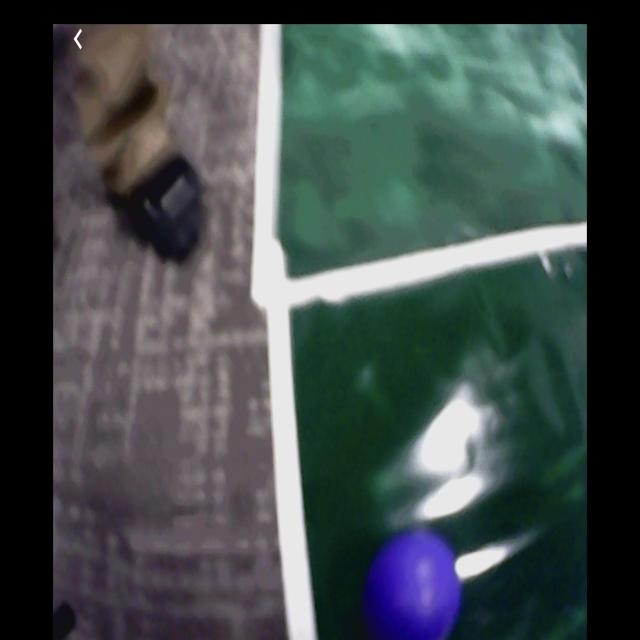ball: (371, 529, 461, 640)
